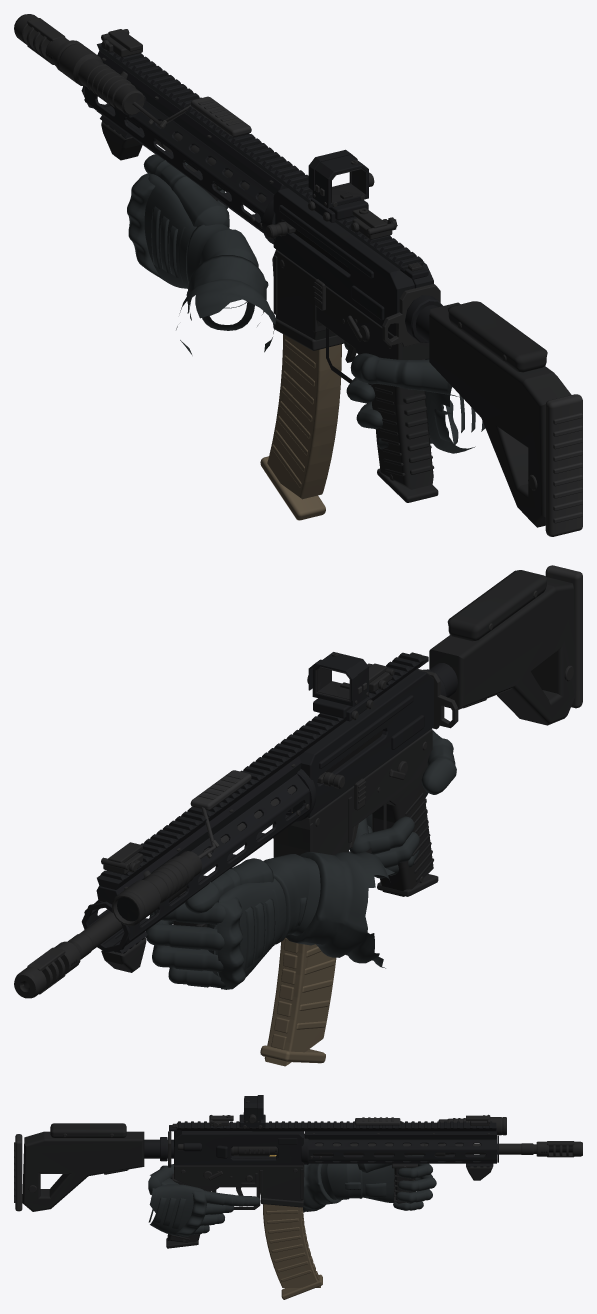
File: pac9-rifle.glb
3 views of the same model, one above another, from view 1: azimuth 30°, elevation 25°; view 2: azimuth 150°, elevation 25°; view 3: azimuth 270°, elevation 25° (orthographic). The views are drawn at different scales.
Parts seen in each view (by area): view 1: pac9_polymer, pac9_anodised, glove_2, pac9_phosphate, pac9_polymer_tan, pac9_matte, glove_0; view 2: pac9_polymer, pac9_anodised, glove_2, pac9_phosphate, pac9_polymer_tan, glove_0, pac9_matte; view 3: pac9_anodised, pac9_polymer, glove_2, pac9_phosphate (×2), pac9_polymer_tan, glove_0, pac9_matte, glove_1.
Part boxes in pixels (x1,y1,x2,y2): pac9_polymer: (101,121,571,527); pac9_anodised: (81,43,442,342); glove_2: (127,154,275,355); pac9_phosphate: (14,14,537,490); pac9_polymer_tan: (260,334,341,520); pac9_matte: (132,96,582,536); glove_0: (346,353,485,453); pac9_polymer: (101,570,575,972); pac9_anodised: (81,652,457,953); glove_2: (146,852,394,989); pac9_phosphate: (14,590,573,998); pac9_polymer_tan: (260,812,336,1066); glove_0: (349,730,456,878); pac9_matte: (190,565,582,858); pac9_anodised: (144,1095,498,1167); pac9_polymer: (22,1123,493,1248); glove_2: (303,1155,436,1212); pac9_phosphate (×2): (28,1100,582,1242); pac9_polymer_tan: (262,1204,322,1299); glove_0: (148,1164,234,1236); pac9_matte: (14,1098,403,1211); glove_1: (204,1190,260,1206).
Bounding box in the file's own units: 0.14 × 0.3369 × 0.8775.
